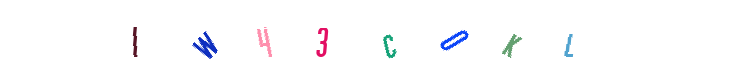0: (360, 0, 440, 80)
1: (95, 0, 175, 80)
3: (283, 0, 363, 80)
4: (273, 0, 353, 80)
C: (335, 0, 415, 80)
K: (403, 0, 483, 80)
L: (408, 0, 488, 80)
W: (225, 0, 305, 80)
